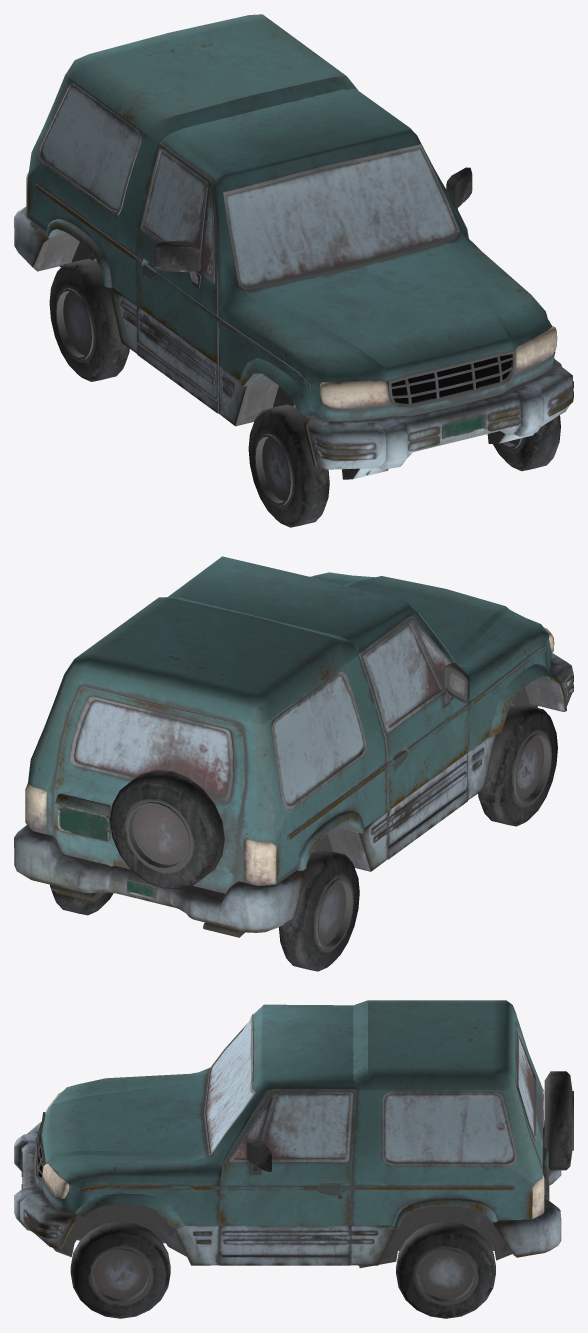
The model's file is broken_car.obj.
3 views of the same model, one above another, from view 1: azimuth 30°, elevation 25°; view 2: azimuth 150°, elevation 25°; view 3: azimuth 270°, elevation 25° (orthographic). The views are drawn at different scales.
Visible parts, largest first — view 1: obj1; view 2: obj1; view 3: obj1.
Part boxes in pixels (x1,y1,x2,y2): obj1: (14,14,573,527); obj1: (14,556,573,971); obj1: (14,1000,573,1318).
Bounding box in the file's own units: 512 × 443 × 956.
1 material, 1 textured.
